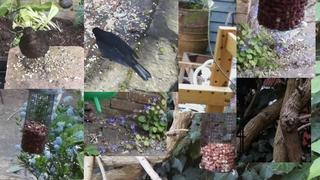blackbird: (92, 27, 152, 81), (18, 27, 57, 76)
